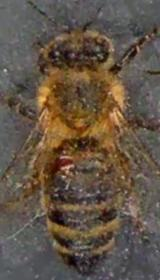varroa_mite: (49, 152, 85, 176)
